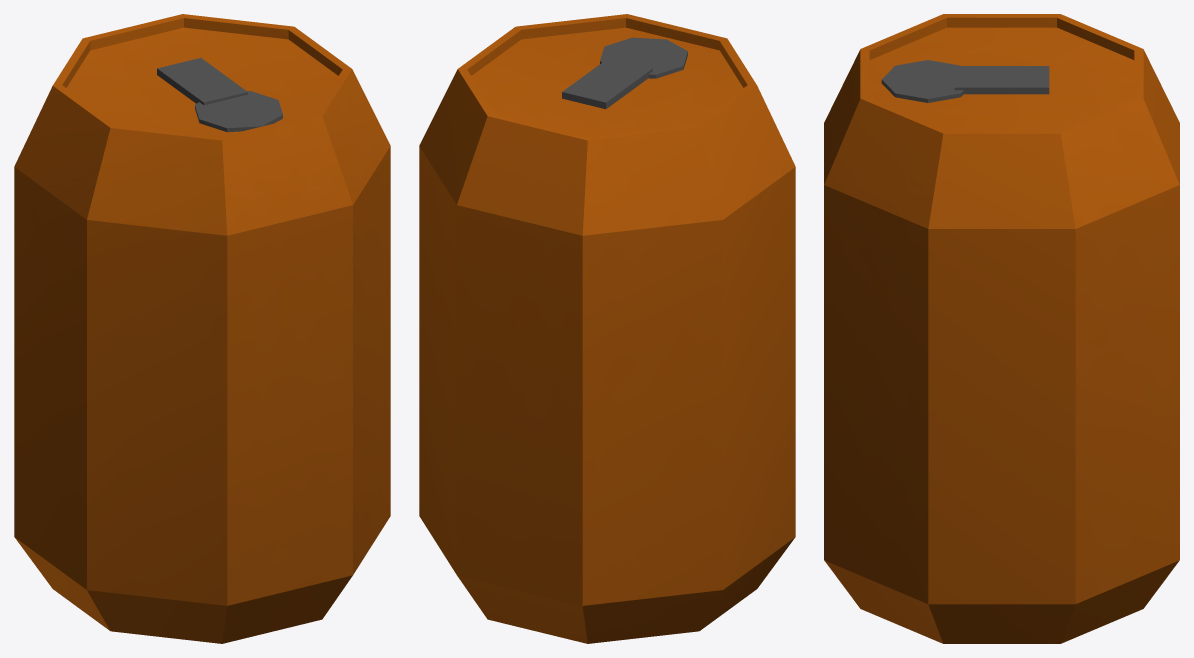
Rendered from Bottle_orange_1.fbx.
3 views of the same model, side by side, from view 1: azimuth 30°, elevation 25°; view 2: azimuth 150°, elevation 25°; view 3: azimuth 270°, elevation 25° (orthographic).
Visible parts, largest first — view 1: Bottle_orange; view 2: Bottle_orange; view 3: Bottle_orange.
Boxes of the visible parts, <box> form: Bottle_orange: <box>14,14,390,643</box>; Bottle_orange: <box>419,14,795,643</box>; Bottle_orange: <box>824,14,1179,643</box>.
Size of the model in its own units: 5.15 by 8.15 by 5.15.
